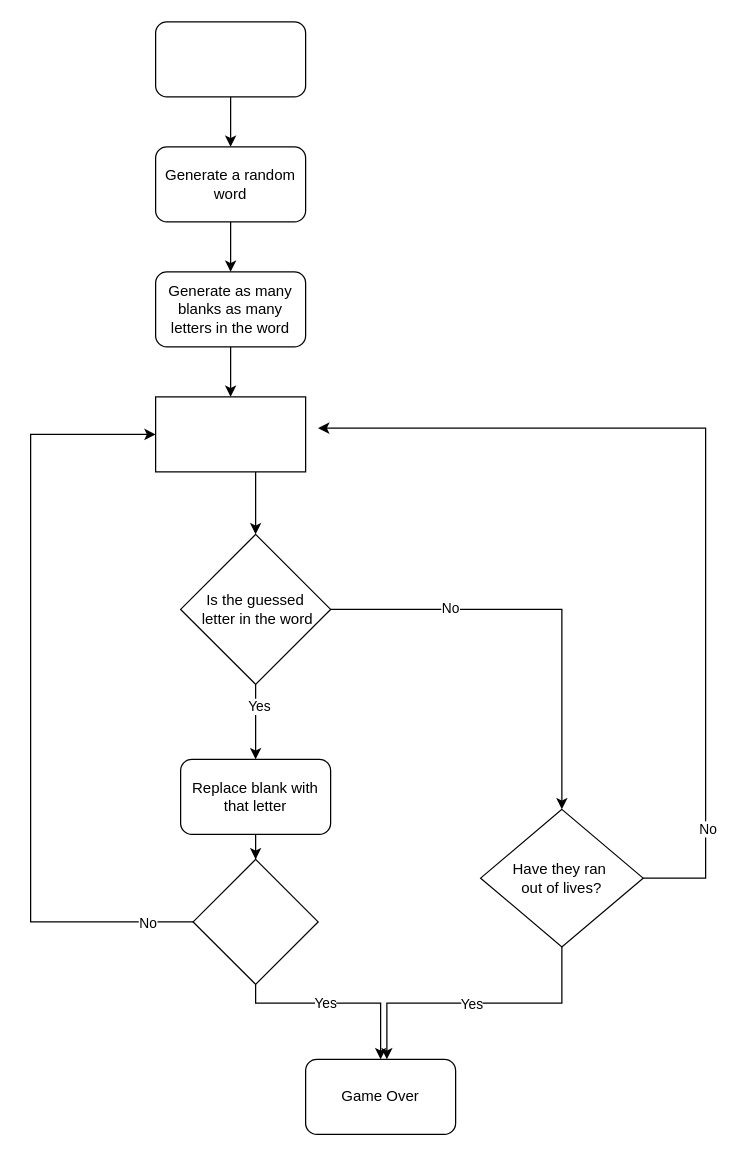
Some shapes in this 738 by 1156 pixel diagram are drawn without their labels. The shapes that lost their labels are listed below. From the top down, each one's centre as x and y in pixels, then its label:
point 230,59: Start
point 230,434: Ask user to guess a letter
point 255,921: Are all the blanks flled?
